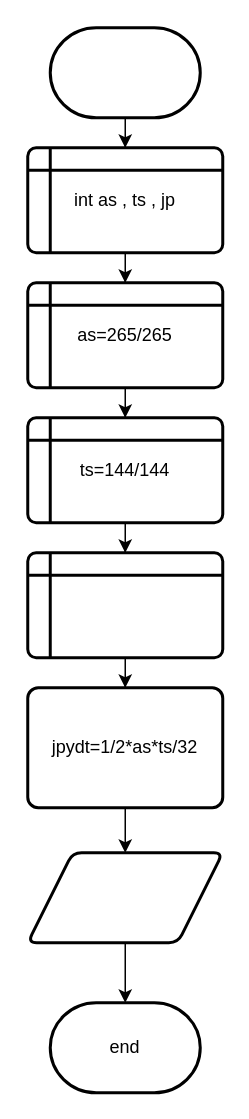
Some shapes in this 249 by 1119 pixel diagram are drawn without their labels. Here are the shapes that lost their labels. From the top down, the centre of each, then its label:
(x=124, y=72): start
(x=125, y=604): jp=32
(x=125, y=897): output jpydt
